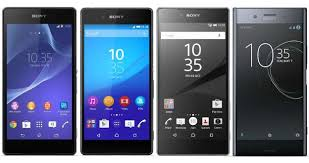sony: (2, 2, 80, 161), (76, 2, 154, 161), (155, 1, 233, 159)
